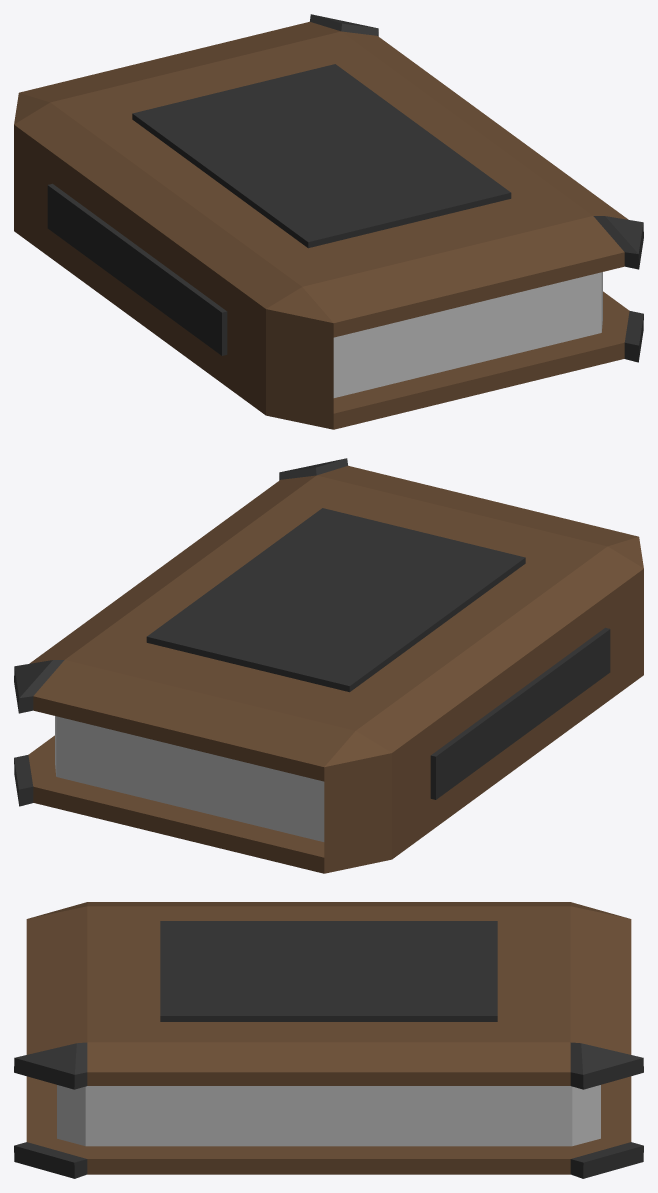
The model's file is Book_2_Brown.fbx.
3 views of the same model, one above another, from view 1: azimuth 30°, elevation 25°; view 2: azimuth 150°, elevation 25°; view 3: azimuth 270°, elevation 25° (orthographic). The views are drawn at different scales.
Visible parts, largest first — view 1: Book_2_Brown_Part_1, Book_2_Brown_Part_3, Book_2_Brown_Part_2; view 2: Book_2_Brown_Part_1, Book_2_Brown_Part_3, Book_2_Brown_Part_2; view 3: Book_2_Brown_Part_1, Book_2_Brown_Part_3, Book_2_Brown_Part_2.
Part boxes in pixels (left/top/right/bottom): Book_2_Brown_Part_1: left=14, top=21, right=629, bottom=429; Book_2_Brown_Part_3: left=47, top=14, right=643, bottom=362; Book_2_Brown_Part_2: left=333, top=272, right=602, bottom=397; Book_2_Brown_Part_1: left=28, top=465, right=643, bottom=873; Book_2_Brown_Part_3: left=14, top=458, right=610, bottom=806; Book_2_Brown_Part_2: left=55, top=716, right=324, bottom=841; Book_2_Brown_Part_1: left=26, top=902, right=631, bottom=1174; Book_2_Brown_Part_3: left=14, top=921, right=643, bottom=1178; Book_2_Brown_Part_2: left=57, top=1085, right=600, bottom=1146.
Bounding box in the file's own units: 20.71 × 7.44 × 31.27.
